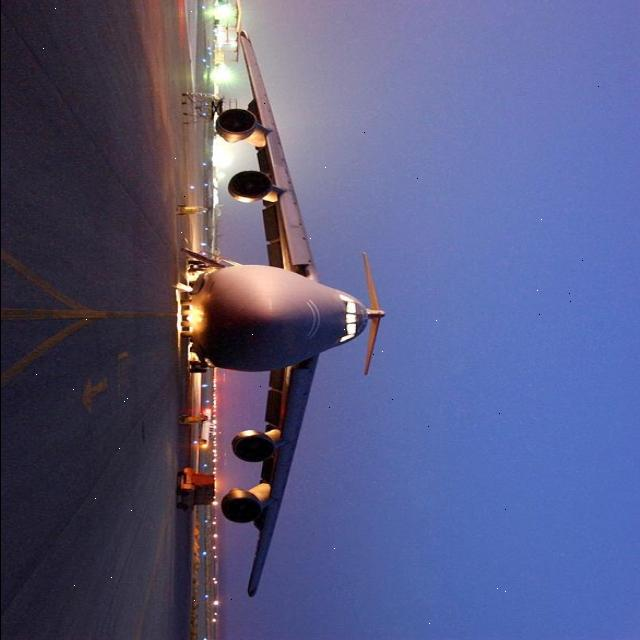C5: (144, 0, 443, 607)
